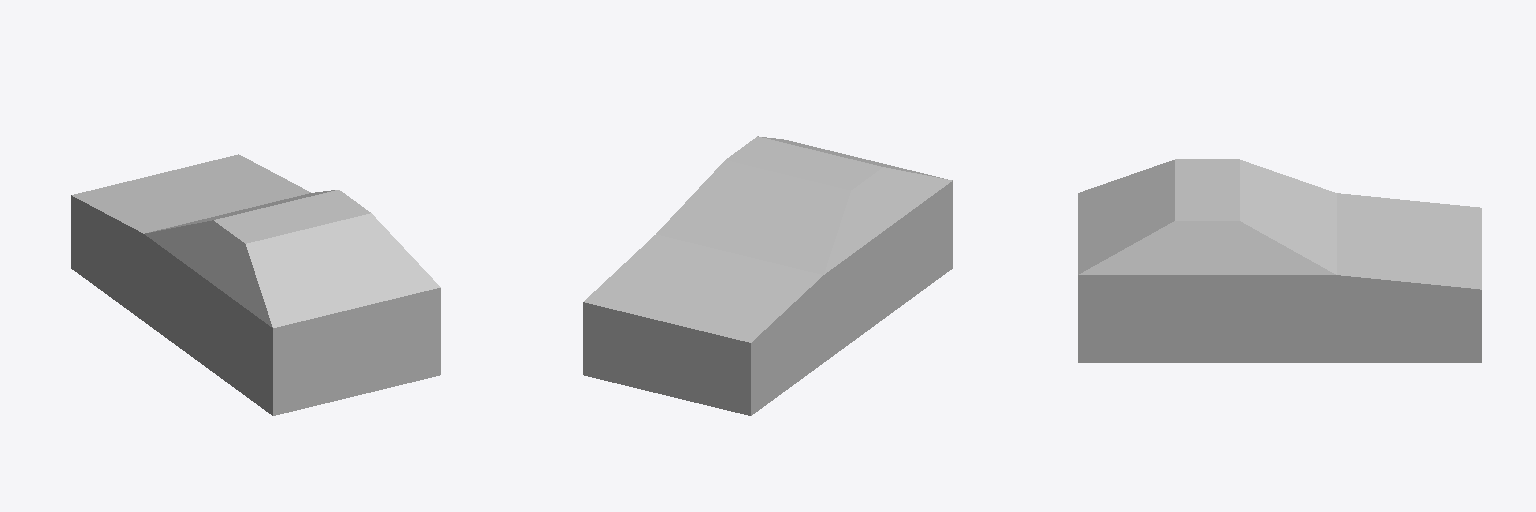
File: simple_car.obj
The picture shows the model from 3 angles: view 1: azimuth 30°, elevation 25°; view 2: azimuth 150°, elevation 25°; view 3: azimuth 270°, elevation 25°; orthographic projection.
Visible parts, largest first — view 1: Plane; view 2: Plane; view 3: Plane.
Part boxes in pixels (x1,y1,x2,y2): Plane: (71,154,440,415); Plane: (583,136,952,415); Plane: (1078,159,1481,362).
Size of the model in its own units: 12 by 9 by 25.